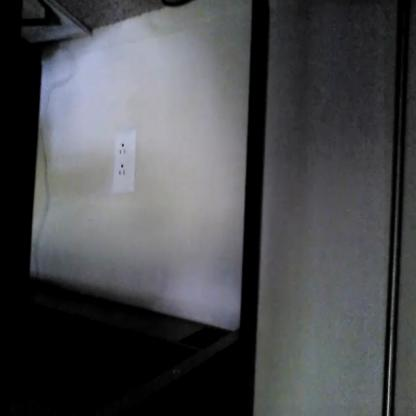OUTLET: (113, 131, 135, 194)
